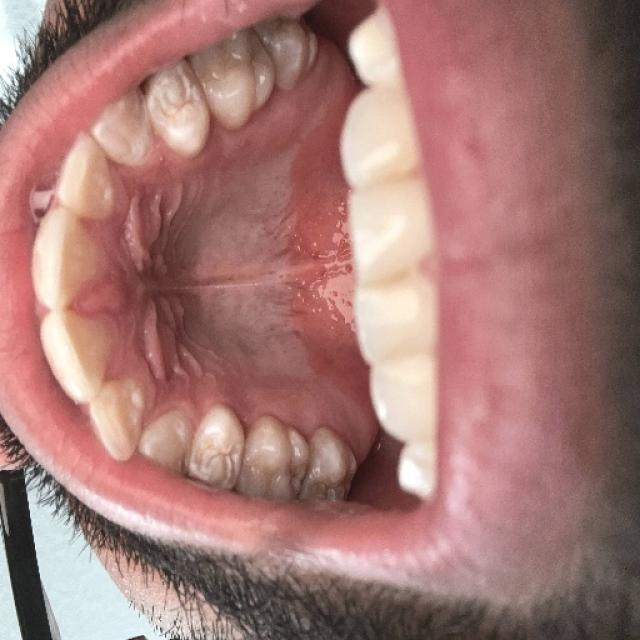processing_area: (82, 54, 375, 462)
